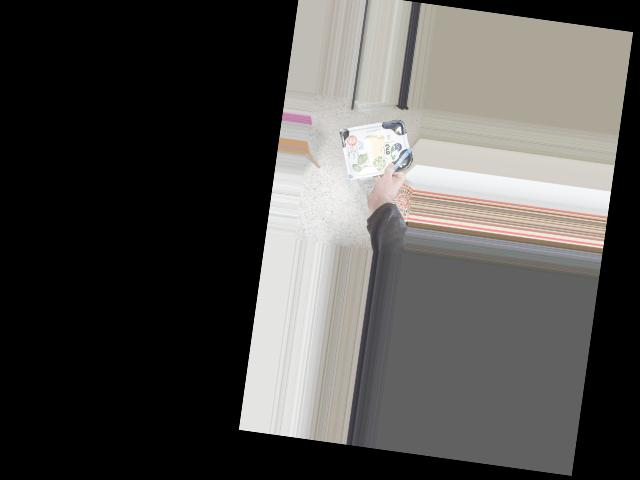cheese: (343, 122, 410, 177)
